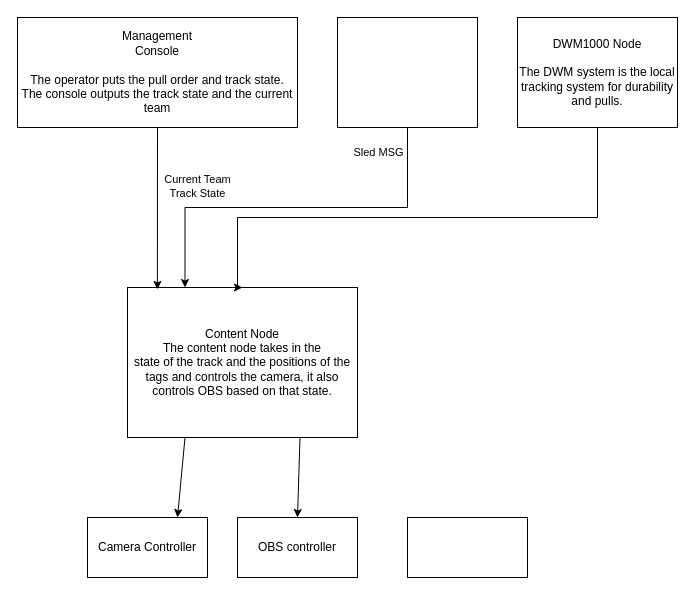
Some shapes in this 695 by 595 pixel diagram are drawn without their labels. Each missing label, with the box of its shape:
Overlays: (406, 516, 528, 578)
Sled The Sled outputs the current distance, speed and force: (336, 16, 478, 128)
